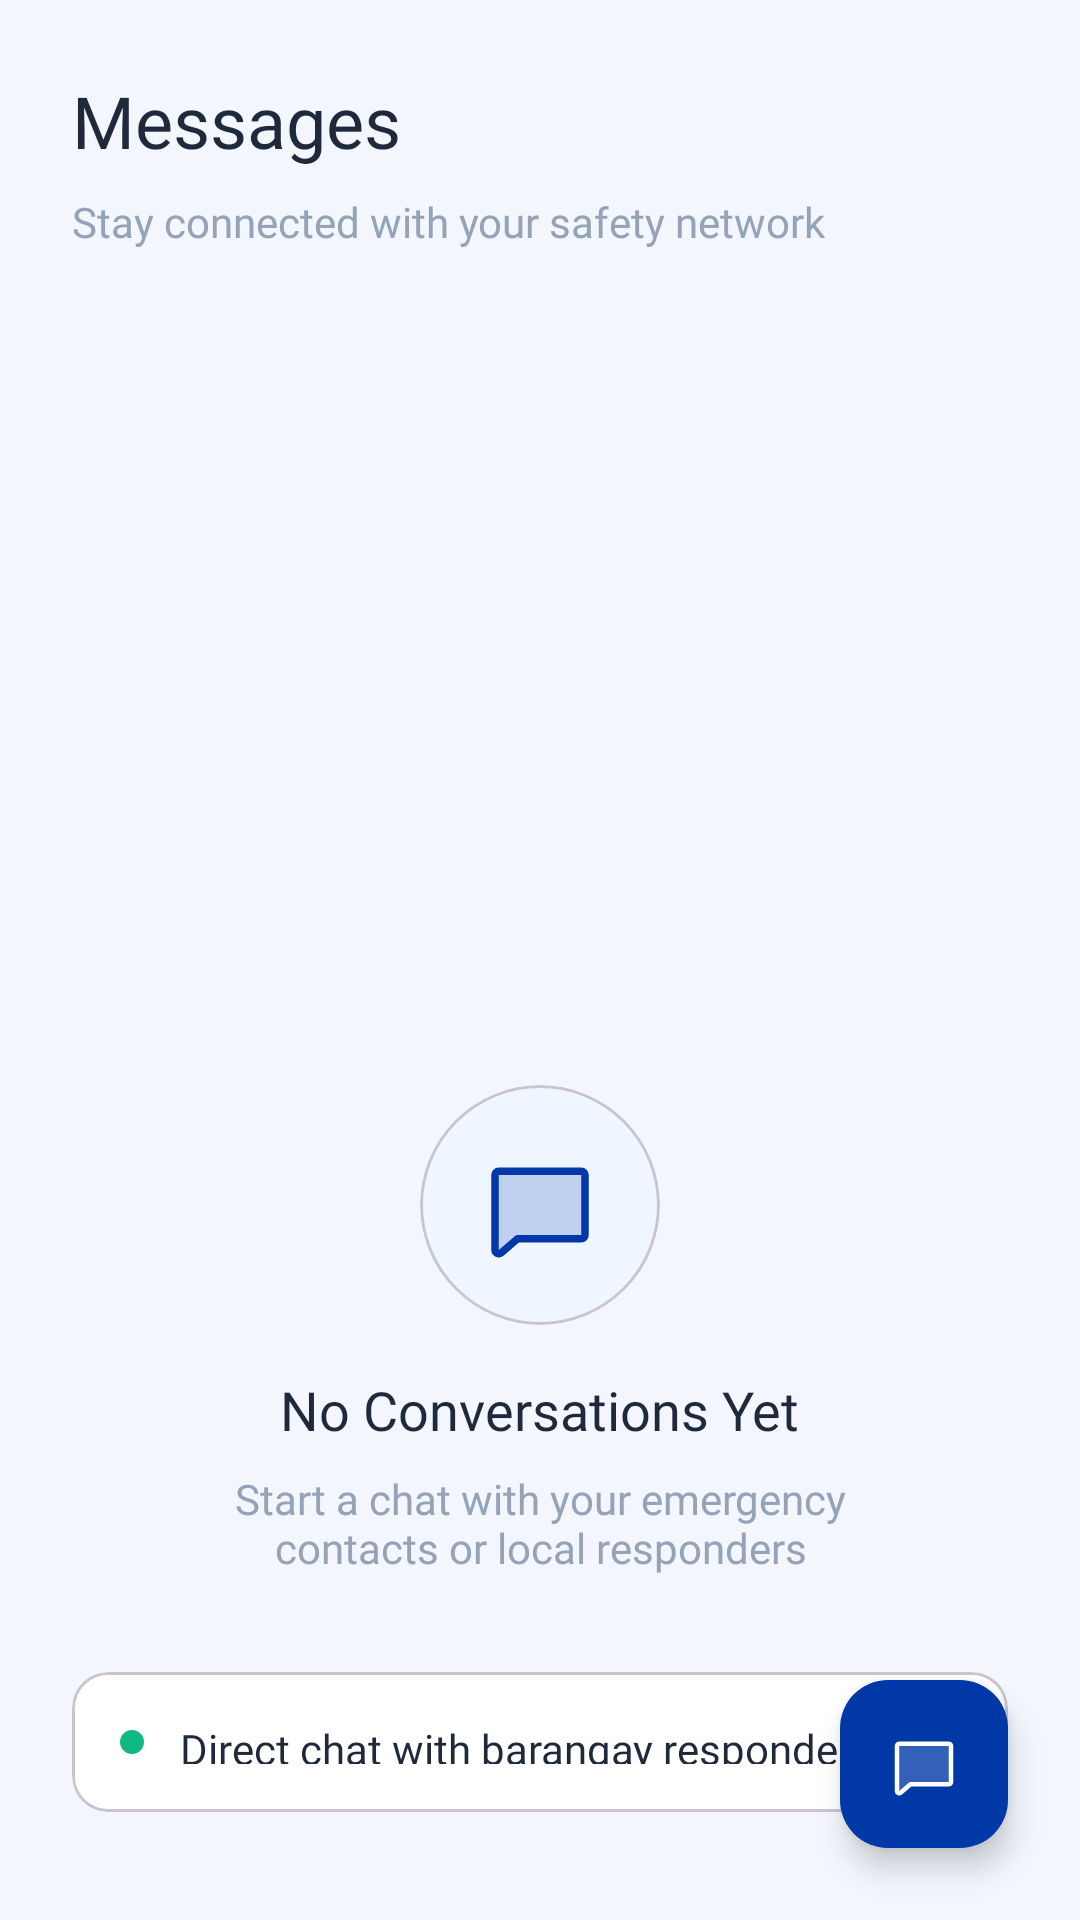

Where to tap for icons on this 1080px×1920px app screen, as point (x, y):
chats: point (540, 1212), point (924, 1764)
